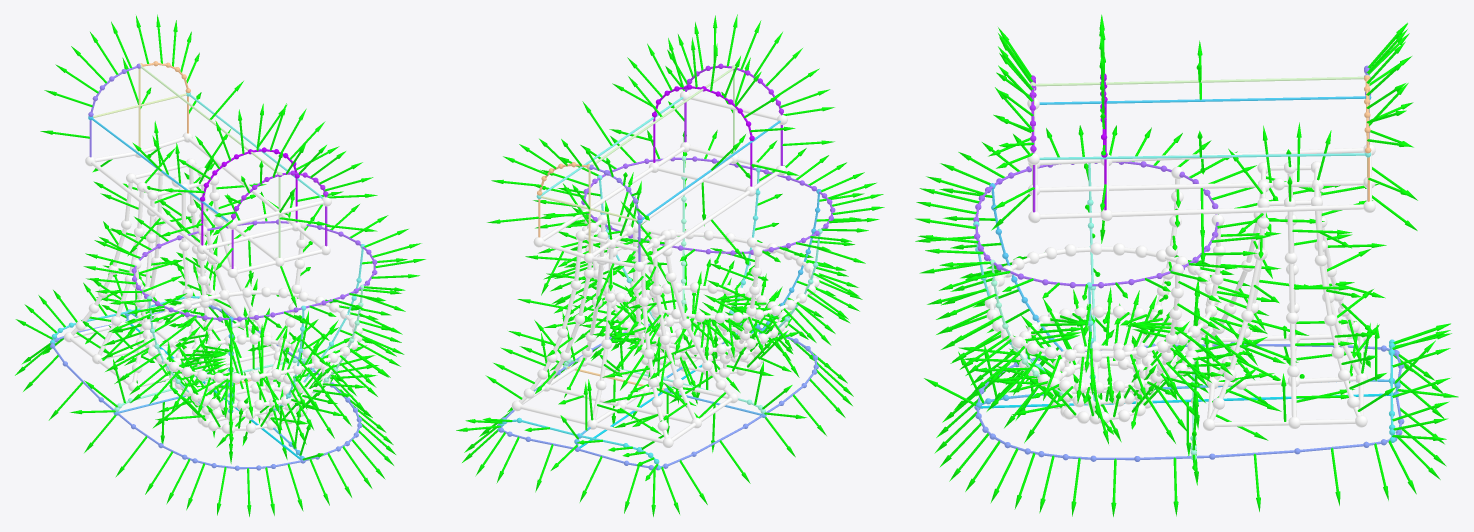
The model's file is t2f_blender.gltf.
3 views of the same model, side by side, from view 1: azimuth 30°, elevation 25°; view 2: azimuth 150°, elevation 25°; view 3: azimuth 270°, elevation 25° (orthographic). The views are drawn at different scales.
Bounding box in the file's own units: 0.6599 × 0.7512 × 0.8629.
